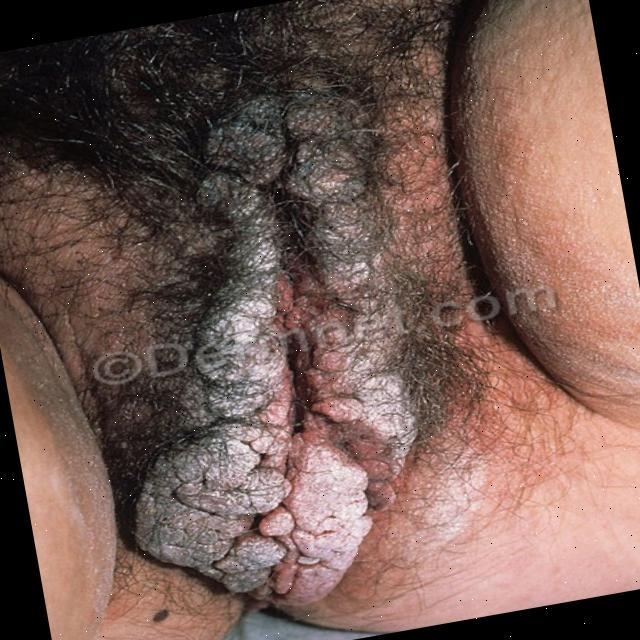Shingles: (140, 98, 433, 588)
